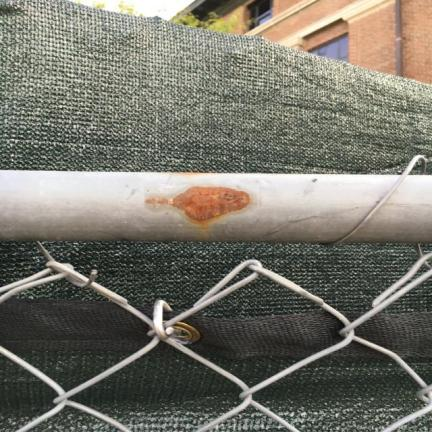besi_tidak_karat: (0, 260, 375, 431), (0, 170, 390, 242), (212, 261, 344, 321), (345, 174, 431, 242), (359, 261, 431, 321), (342, 319, 362, 335), (418, 252, 431, 261)
karat: (146, 186, 250, 221)
